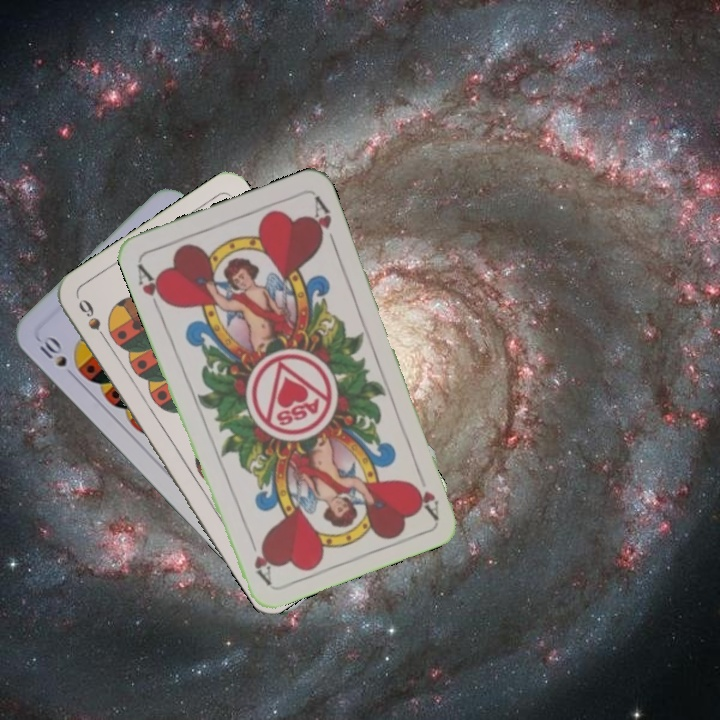HA: (133, 259, 171, 315), (409, 463, 442, 521)
S10: (35, 332, 70, 370)
S9: (74, 294, 113, 348)
